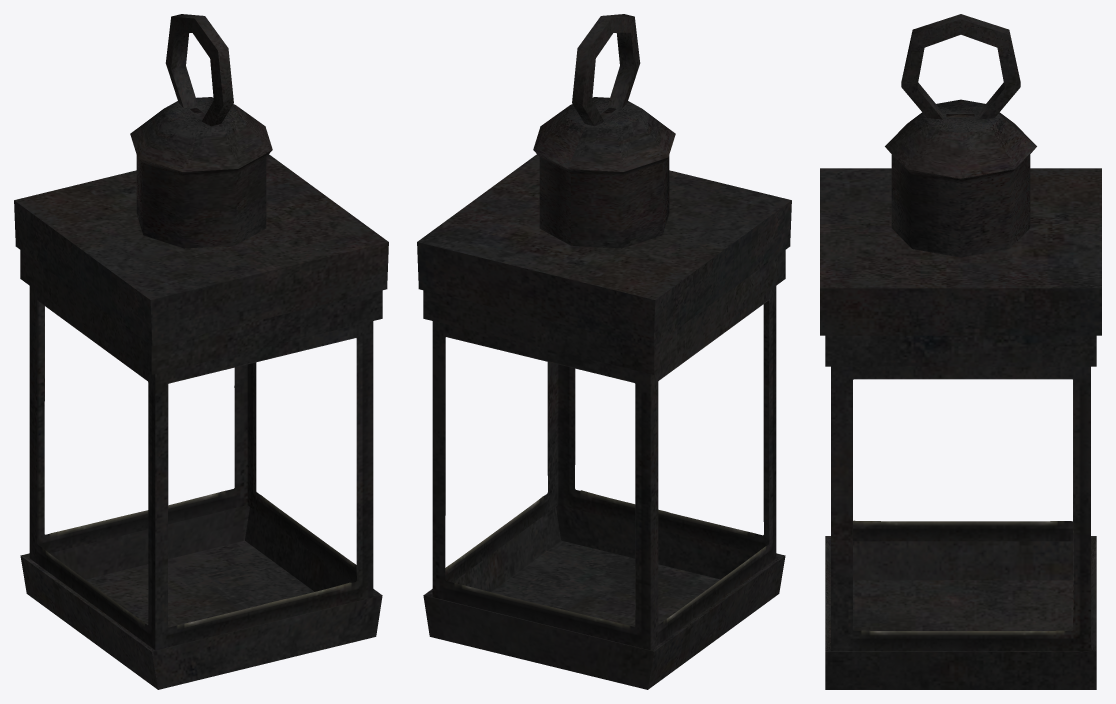
Rendered from lantern.fbx.
3 renders of one model, left to right at view 1: azimuth 30°, elevation 25°; view 2: azimuth 150°, elevation 25°; view 3: azimuth 270°, elevation 25°, orthographic. The views are drawn at different scales.
Parts seen in each view (by area): view 1: lanternMesh; view 2: lanternMesh; view 3: lanternMesh.
Part boxes in pixels (x1,y1,x2,y2): lanternMesh: (14,14,388,689); lanternMesh: (417,14,791,689); lanternMesh: (820,14,1101,689).
Size of the model in its own units: 16.4 by 39.34 by 16.27.
